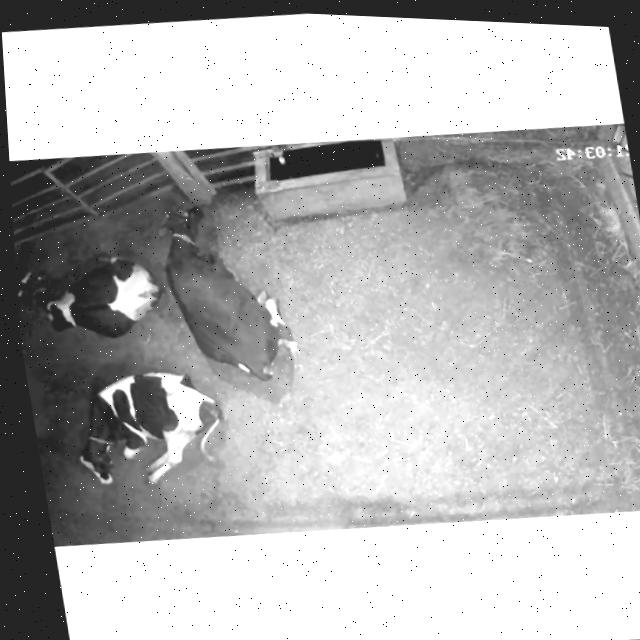lay: (155, 185, 304, 396), (64, 352, 235, 505), (13, 227, 170, 354)
